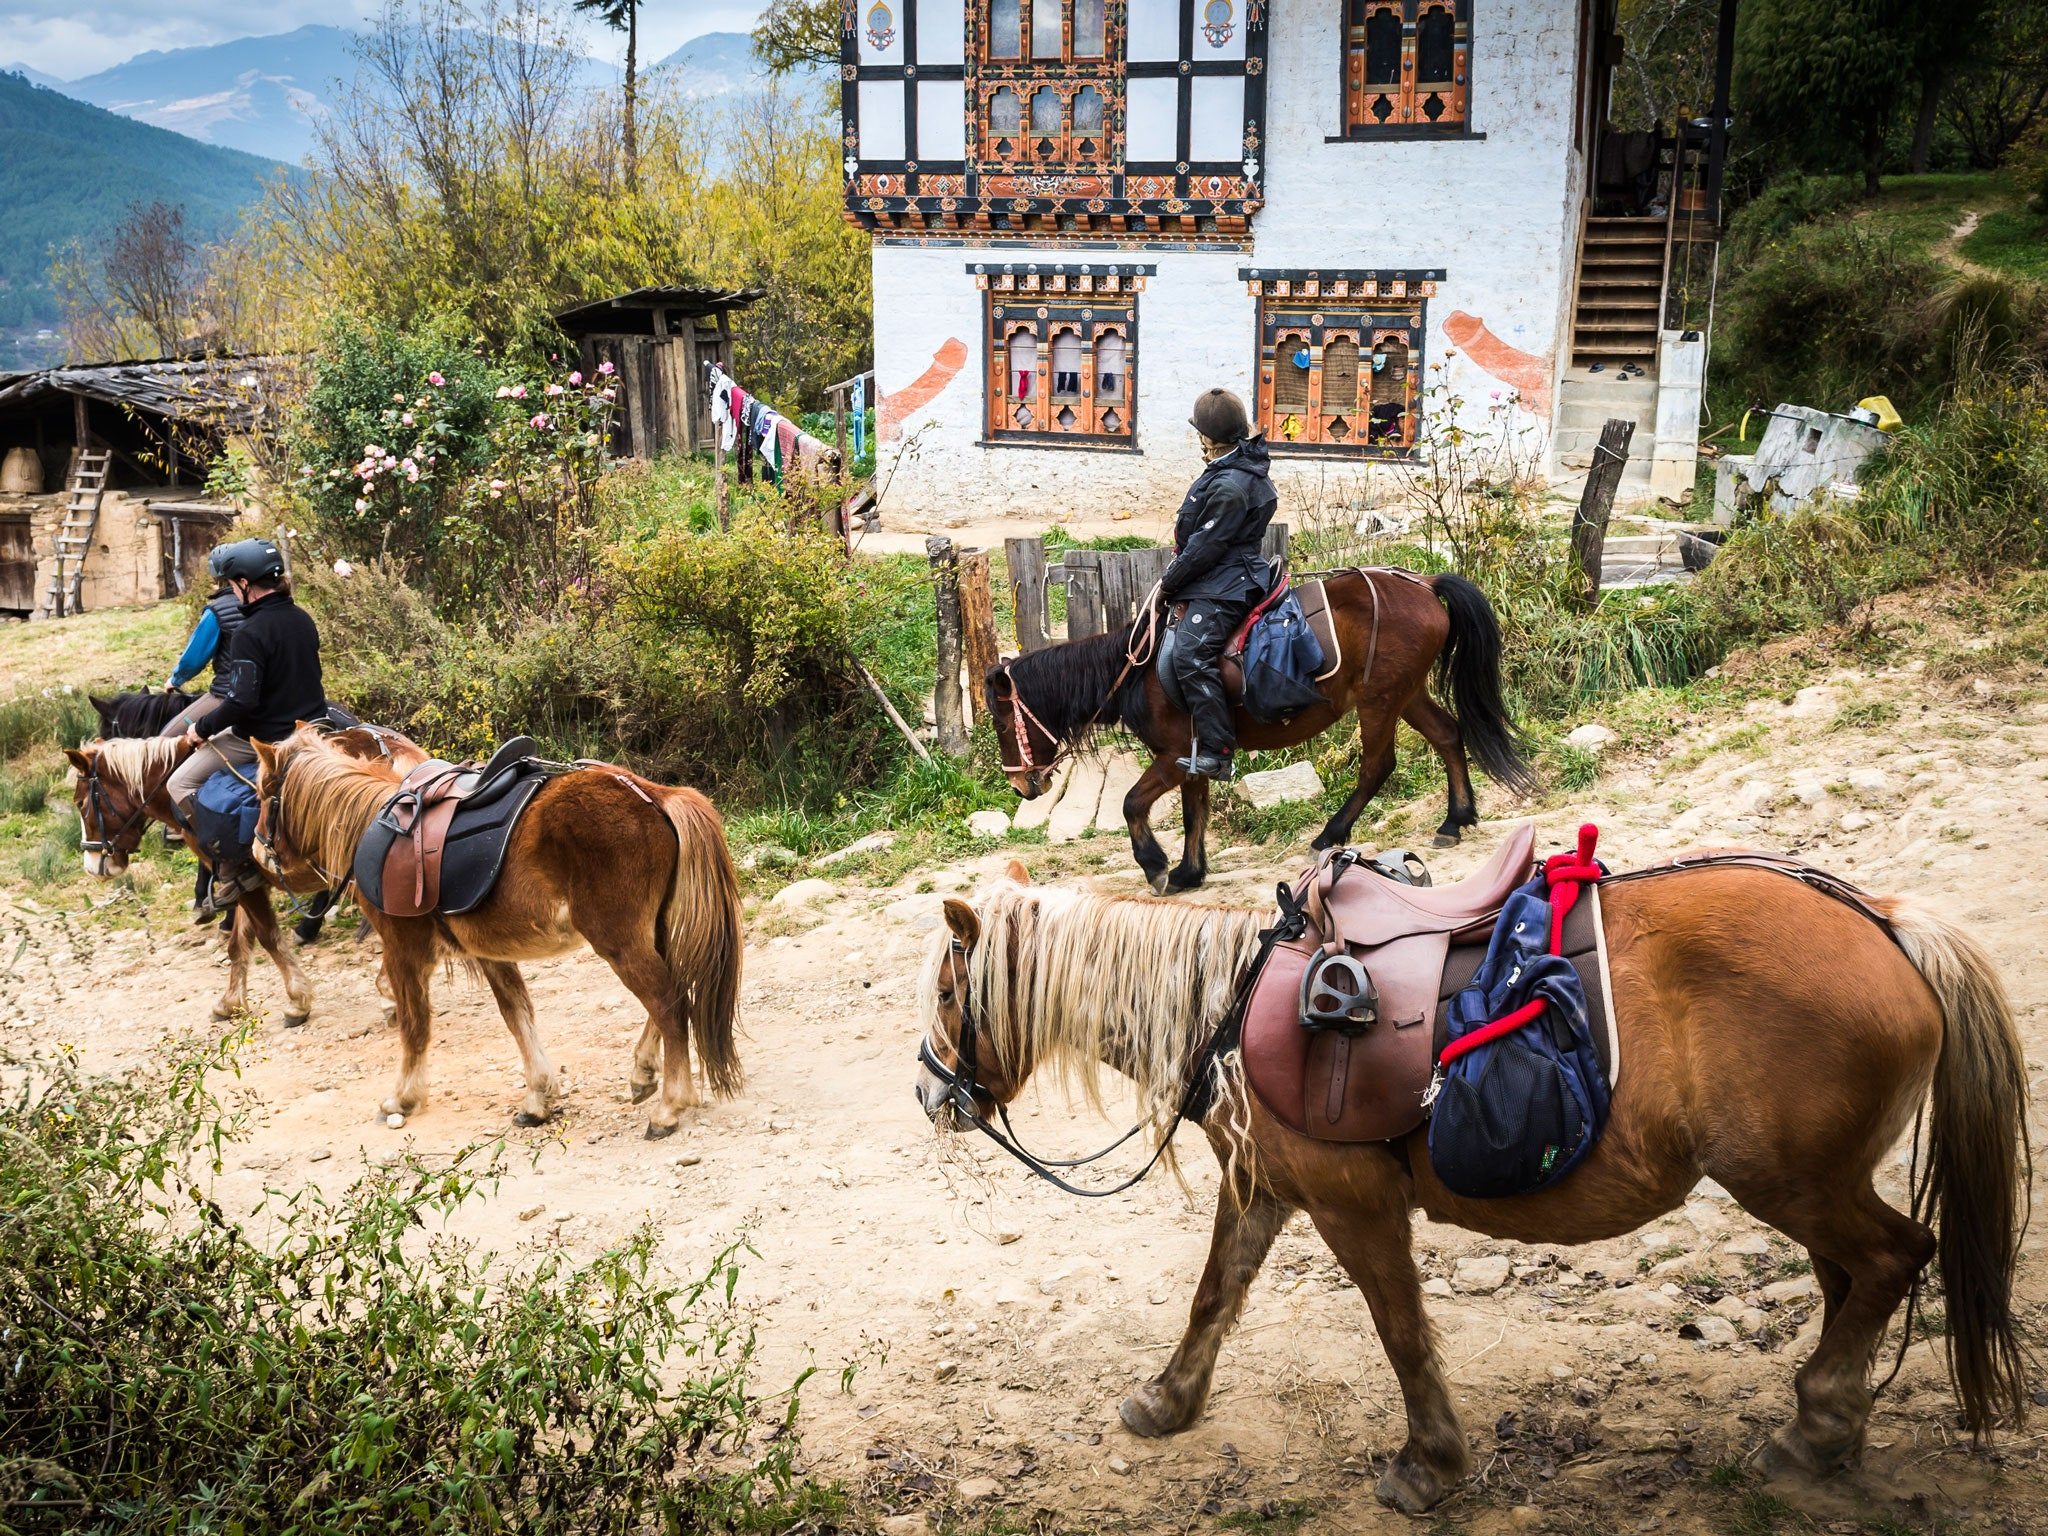human: (1107, 372, 1298, 799), (146, 524, 338, 924), (161, 529, 274, 726)
